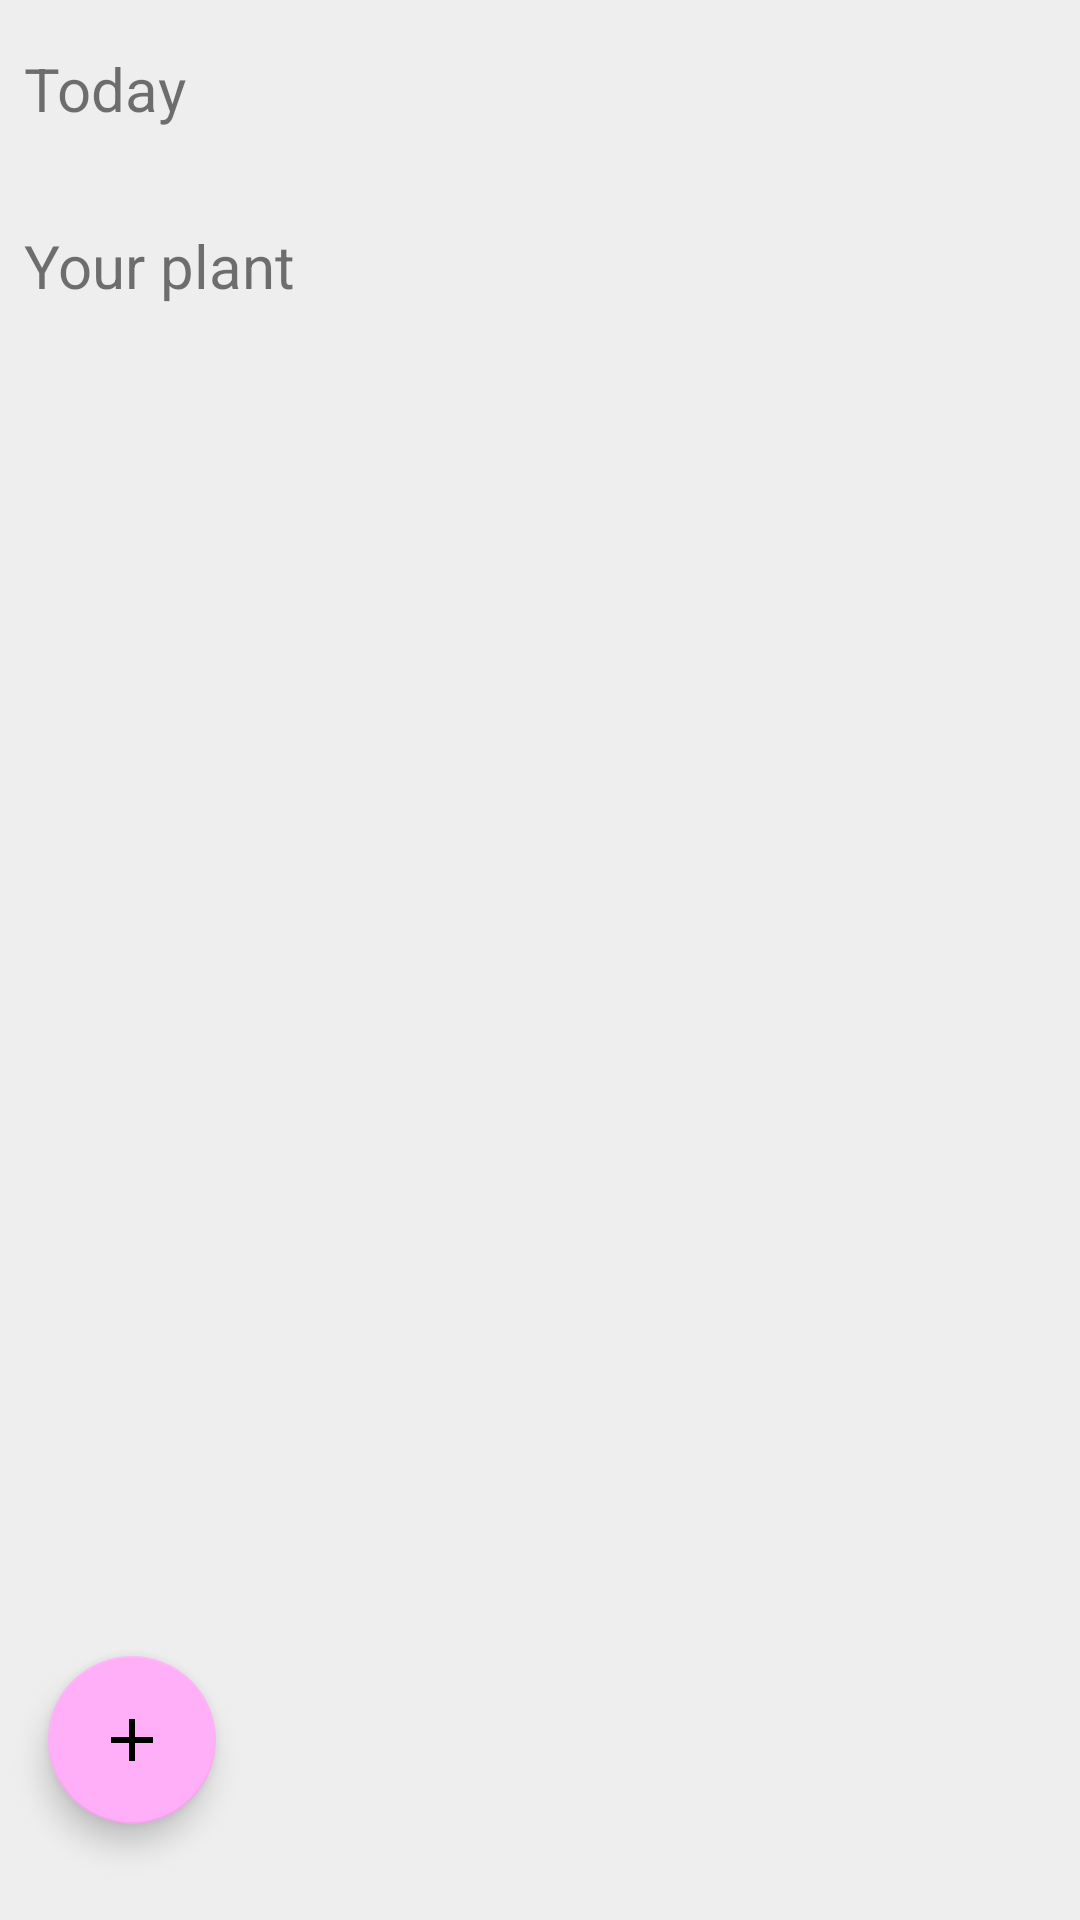

Named icons in this screenshot (1080×1920) and their centers, (x=x, y=y):
add: (x=132, y=1740)
